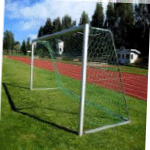goals: (28, 21, 133, 139)
